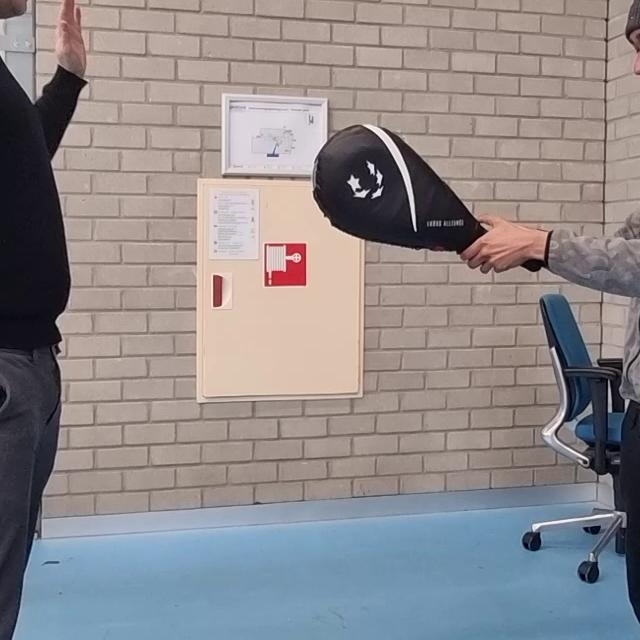paddle: (315, 124, 489, 253)
